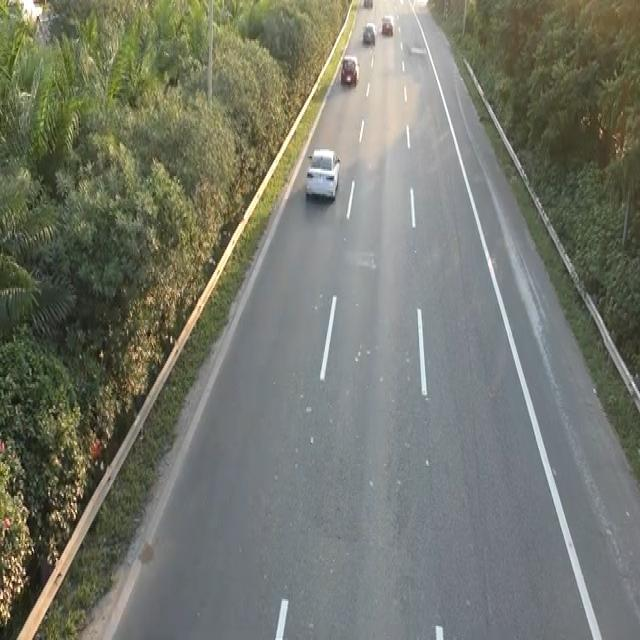bus: (303, 144, 344, 208), (339, 53, 360, 87)
